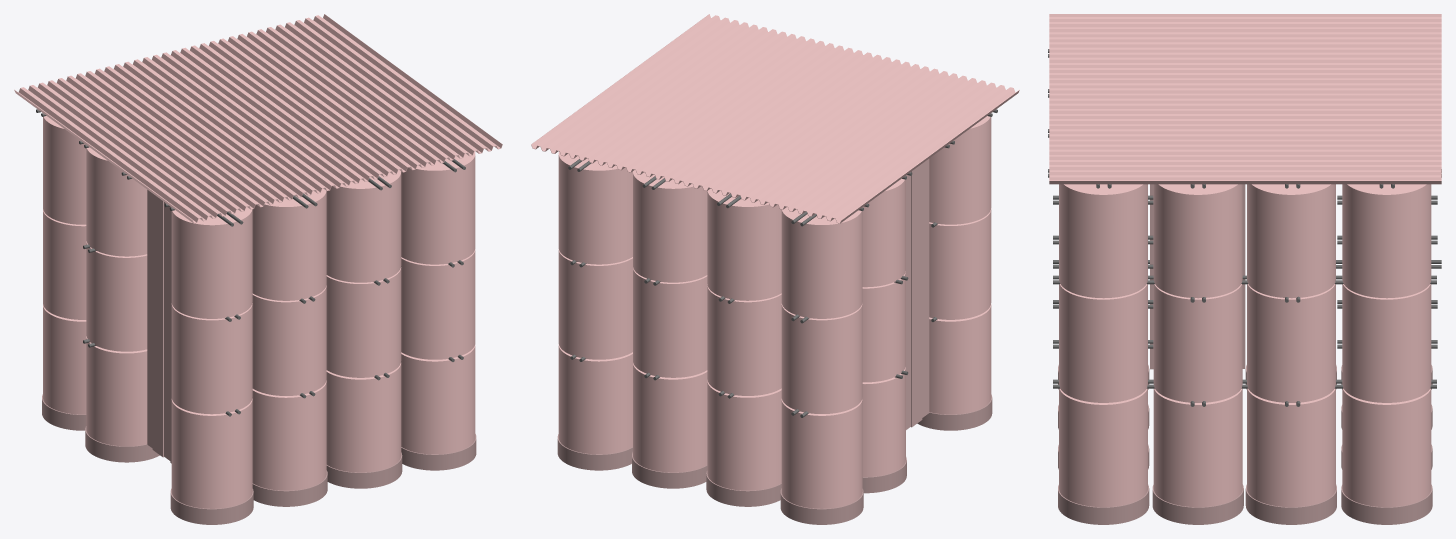
File: 05-warehouse.glb
3 renders of one model, left to right at view 1: azimuth 30°, elevation 25°; view 2: azimuth 150°, elevation 25°; view 3: azimuth 270°, elevation 25°, orthographic. The views are drawn at different scales.
Visible parts, largest first — view 1: Mesh_137.002; view 2: Mesh_137.002; view 3: Mesh_137.002.
Boxes of the visible parts, x1,y1,x2,y2 form: Mesh_137.002: [14, 14, 502, 524]; Mesh_137.002: [531, 14, 1019, 524]; Mesh_137.002: [1048, 14, 1441, 524].
Size of what is drawn, in the model's own units: 5152 by 5016 by 5137.
